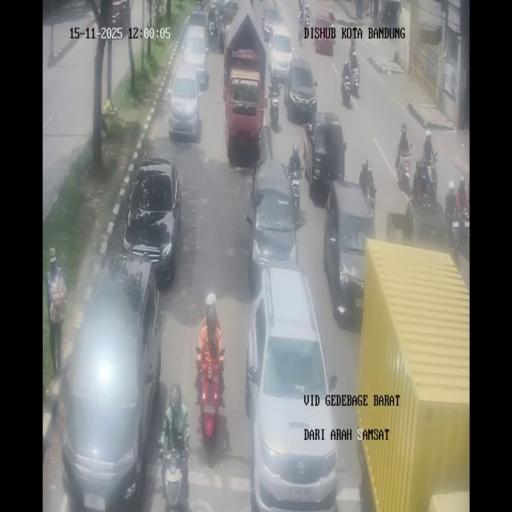3: (354, 240, 468, 510), (224, 52, 266, 161), (94, 0, 131, 37)
car: (62, 253, 162, 506), (245, 268, 338, 504), (245, 156, 299, 297), (122, 158, 182, 283), (324, 180, 374, 320), (303, 112, 345, 202), (404, 197, 452, 253), (168, 65, 202, 142), (285, 57, 317, 121), (186, 9, 207, 54), (261, 6, 284, 44)
truck: (195, 344, 224, 442), (158, 438, 190, 508), (448, 198, 470, 254), (286, 160, 302, 216), (396, 142, 412, 192), (268, 85, 280, 131), (425, 159, 439, 198), (365, 185, 377, 225), (349, 57, 360, 97), (340, 72, 352, 107), (224, 22, 232, 54), (304, 121, 314, 146), (213, 2, 221, 32), (328, 16, 336, 42), (298, 22, 305, 46), (303, 4, 310, 26), (275, 76, 284, 92), (349, 38, 356, 58), (298, 0, 305, 15), (196, 0, 204, 11), (378, 9, 383, 24)
